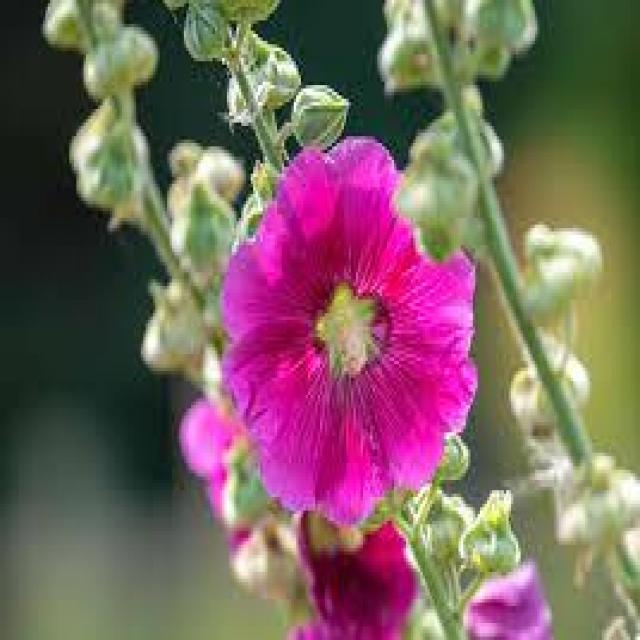organic waste: (217, 141, 468, 523)
